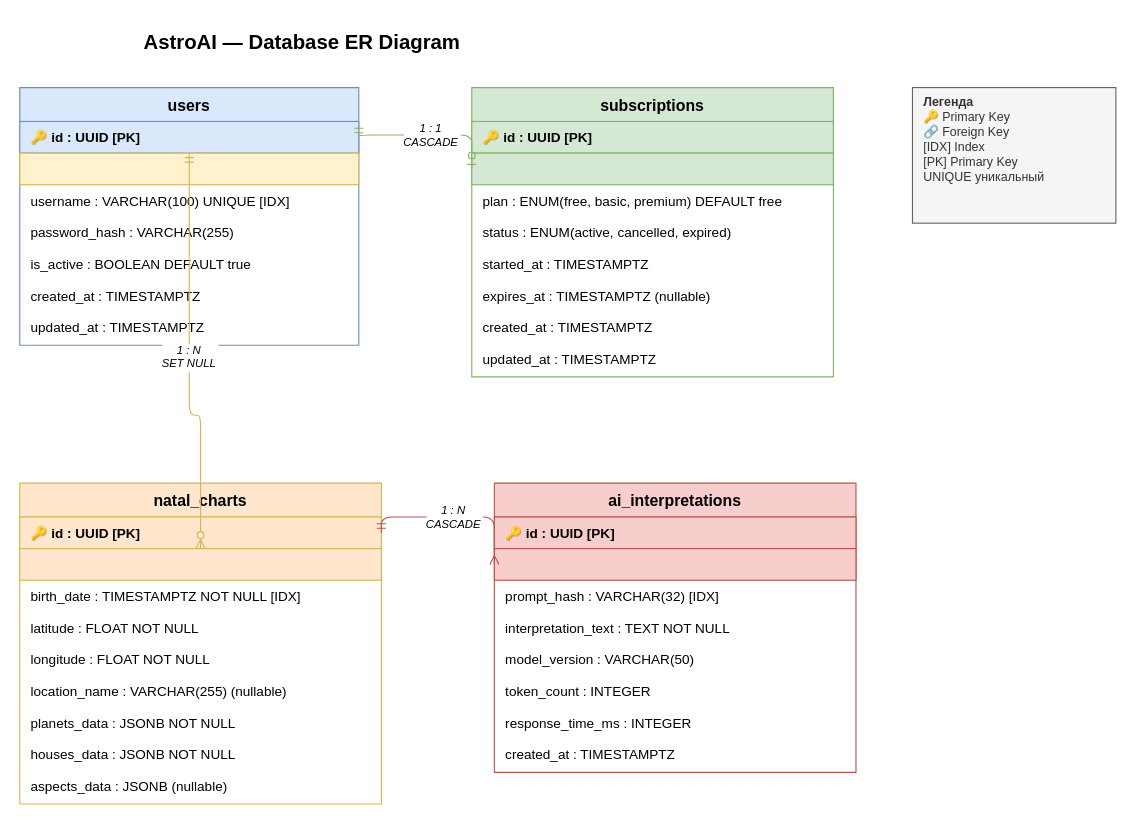
Some shapes in this 1136 by 824 pixel diagram are drawn without their labels. Each missing label, with the centre of its shape:
"email : VARCHAR(255) UNIQUE NOT NULL [IDX]" belongs at point 189,168.
"🔗 natal_chart_id : UUID FK→natal_charts.id [IDX]" belongs at point 674,563.
"🔗 user_id : UUID FK→users.id (nullable) [IDX]" belongs at point 200,563.
"🔗 user_id : UUID FK→users.id UNIQUE [IDX]" belongs at point 652,168.
